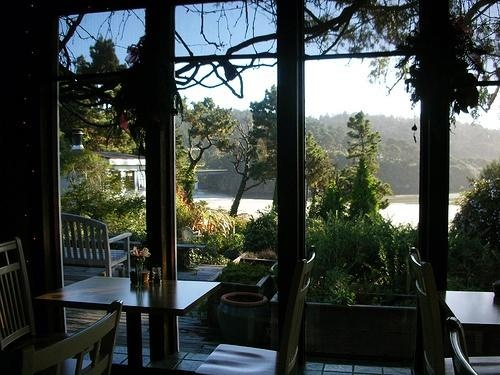chair: (197, 247, 321, 374), (19, 305, 122, 374), (408, 245, 453, 375), (1, 237, 40, 367), (449, 315, 484, 375)
diningtable: (36, 268, 224, 375), (436, 288, 500, 334)
pottedplant: (312, 267, 360, 326), (221, 255, 270, 296)
